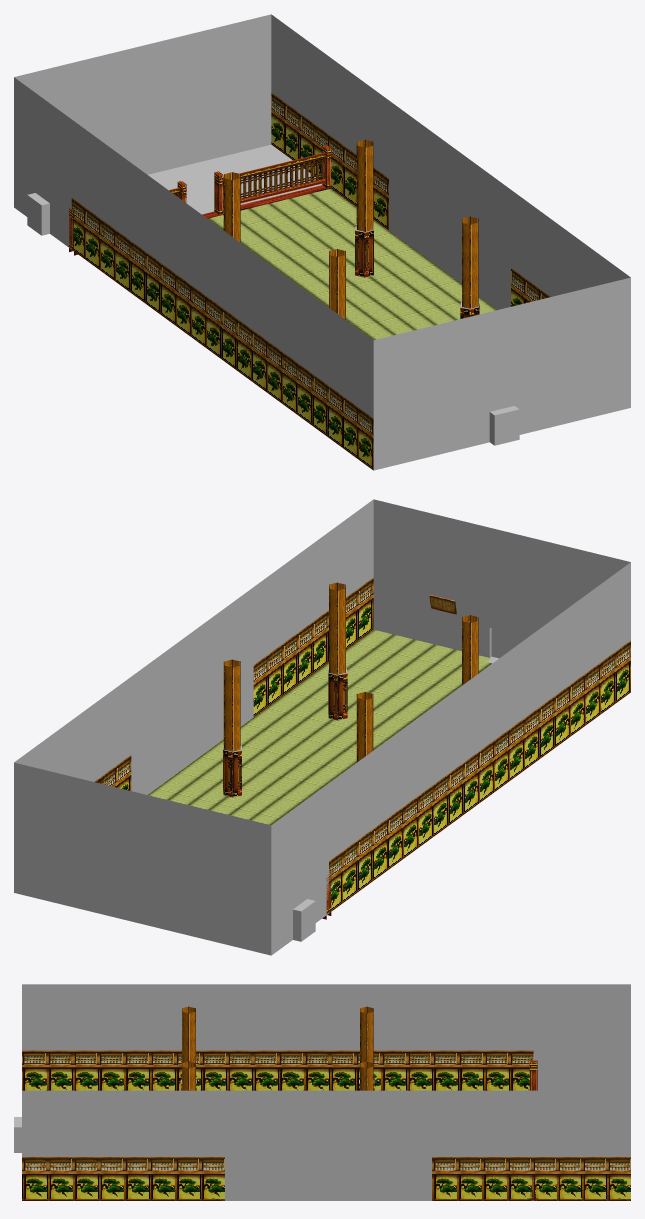
Rendered from JapanHouse.fbx.
3 renders of one model, top to bottom at view 1: azimuth 30°, elevation 25°; view 2: azimuth 150°, elevation 25°; view 3: azimuth 270°, elevation 25°, orthographic. The views are drawn at different scales.
Visible parts, largest first — view 1: Shape_IndexedFaceSet.006_Shape_IndexedFaceSet.038, Shape_IndexedFaceSet.007_Shape_IndexedFaceSet.039, Shape_IndexedFaceSet.009_Shape_IndexedFaceSet.041, Shape_IndexedFaceSet.018_Shape_IndexedFaceSet.050, Shape_IndexedFaceSet.001_Shape_IndexedFaceSet.033, Shape_IndexedFaceSet.005_Shape_IndexedFaceSet.037, Shape_IndexedFaceSet.016_Shape_IndexedFaceSet.048, Shape_IndexedFaceSet.002_Shape_IndexedFaceSet.034, Shape_IndexedFaceSet.004_Shape_IndexedFaceSet.036, Shape_IndexedFaceSet.008_Shape_IndexedFaceSet.040, Shape_IndexedFaceSet.012_Shape_IndexedFaceSet.044, Shape_IndexedFaceSet.021_Shape_IndexedFaceSet.053 (+3 smaller); view 2: Shape_IndexedFaceSet.006_Shape_IndexedFaceSet.038, Shape_IndexedFaceSet.007_Shape_IndexedFaceSet.039, Shape_IndexedFaceSet.018_Shape_IndexedFaceSet.050, Shape_IndexedFaceSet.001_Shape_IndexedFaceSet.033, Shape_IndexedFaceSet.005_Shape_IndexedFaceSet.037, Shape_IndexedFaceSet.009_Shape_IndexedFaceSet.041, Shape_IndexedFaceSet.002_Shape_IndexedFaceSet.034, Shape_IndexedFaceSet.016_Shape_IndexedFaceSet.048, Shape_IndexedFaceSet.008_Shape_IndexedFaceSet.040, Shape_IndexedFaceSet.014_Shape_IndexedFaceSet.046; view 3: Shape_IndexedFaceSet.006_Shape_IndexedFaceSet.038, Shape_IndexedFaceSet.001_Shape_IndexedFaceSet.033, Shape_IndexedFaceSet.002_Shape_IndexedFaceSet.034, Shape_IndexedFaceSet.009_Shape_IndexedFaceSet.041, Shape_IndexedFaceSet.008_Shape_IndexedFaceSet.040, Shape_IndexedFaceSet.016_Shape_IndexedFaceSet.048.
Part boxes in pixels (x1,y1,x2,y2): Shape_IndexedFaceSet.006_Shape_IndexedFaceSet.038: [14, 14, 630, 418]; Shape_IndexedFaceSet.007_Shape_IndexedFaceSet.039: [14, 14, 630, 418]; Shape_IndexedFaceSet.009_Shape_IndexedFaceSet.041: [373, 179, 630, 470]; Shape_IndexedFaceSet.018_Shape_IndexedFaceSet.050: [208, 188, 496, 340]; Shape_IndexedFaceSet.001_Shape_IndexedFaceSet.033: [71, 198, 373, 470]; Shape_IndexedFaceSet.005_Shape_IndexedFaceSet.037: [94, 92, 271, 174]; Shape_IndexedFaceSet.016_Shape_IndexedFaceSet.048: [223, 139, 478, 319]; Shape_IndexedFaceSet.002_Shape_IndexedFaceSet.034: [271, 92, 550, 306]; Shape_IndexedFaceSet.004_Shape_IndexedFaceSet.036: [148, 144, 322, 214]; Shape_IndexedFaceSet.008_Shape_IndexedFaceSet.040: [14, 155, 514, 411]; Shape_IndexedFaceSet.012_Shape_IndexedFaceSet.044: [169, 152, 325, 207]; Shape_IndexedFaceSet.021_Shape_IndexedFaceSet.053: [27, 195, 519, 445]; Shape_IndexedFaceSet.006_Shape_IndexedFaceSet.038: [14, 499, 630, 903]; Shape_IndexedFaceSet.007_Shape_IndexedFaceSet.039: [14, 499, 630, 903]; Shape_IndexedFaceSet.018_Shape_IndexedFaceSet.050: [148, 629, 492, 825]; Shape_IndexedFaceSet.001_Shape_IndexedFaceSet.033: [329, 640, 630, 913]; Shape_IndexedFaceSet.005_Shape_IndexedFaceSet.037: [14, 841, 271, 955]; Shape_IndexedFaceSet.009_Shape_IndexedFaceSet.041: [131, 577, 550, 794]; Shape_IndexedFaceSet.002_Shape_IndexedFaceSet.034: [94, 577, 373, 790]; Shape_IndexedFaceSet.016_Shape_IndexedFaceSet.048: [223, 582, 478, 789]; Shape_IndexedFaceSet.008_Shape_IndexedFaceSet.040: [271, 606, 514, 955]; Shape_IndexedFaceSet.014_Shape_IndexedFaceSet.046: [223, 670, 347, 797]; Shape_IndexedFaceSet.006_Shape_IndexedFaceSet.038: [22, 984, 630, 1156]; Shape_IndexedFaceSet.001_Shape_IndexedFaceSet.033: [22, 1050, 533, 1090]; Shape_IndexedFaceSet.002_Shape_IndexedFaceSet.034: [22, 1157, 630, 1200]; Shape_IndexedFaceSet.009_Shape_IndexedFaceSet.041: [225, 1157, 431, 1200]; Shape_IndexedFaceSet.008_Shape_IndexedFaceSet.040: [533, 1050, 630, 1090]; Shape_IndexedFaceSet.016_Shape_IndexedFaceSet.048: [182, 1006, 373, 1090].
Bounding box in the file's own units: 2641 × 1279 × 6272.
